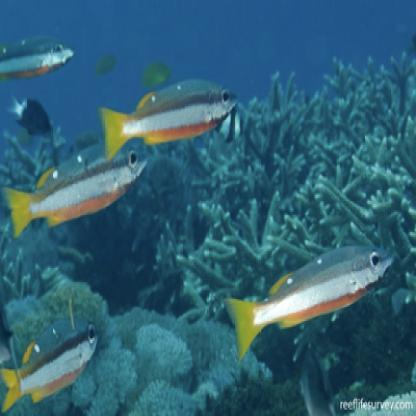Bio: (219, 230, 398, 364), (90, 70, 244, 164), (4, 139, 149, 234), (7, 307, 102, 413)
